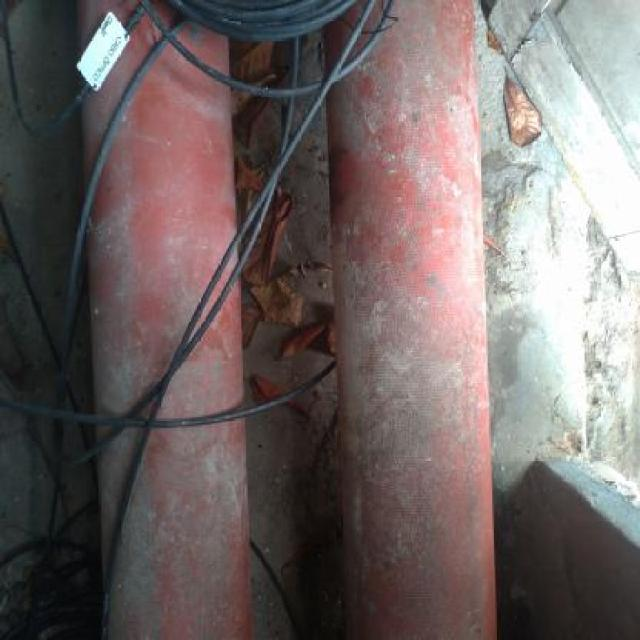gas: (80, 0, 251, 635), (328, 0, 497, 635)
